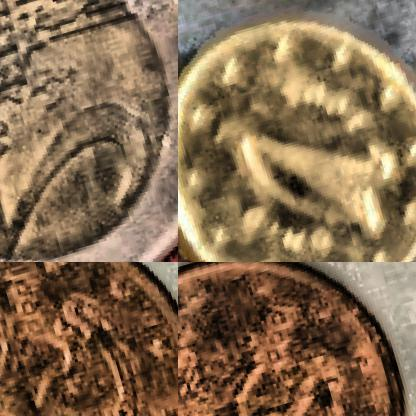coin: (178, 0, 415, 261), (0, 0, 177, 261), (178, 262, 415, 415), (0, 262, 177, 415)
